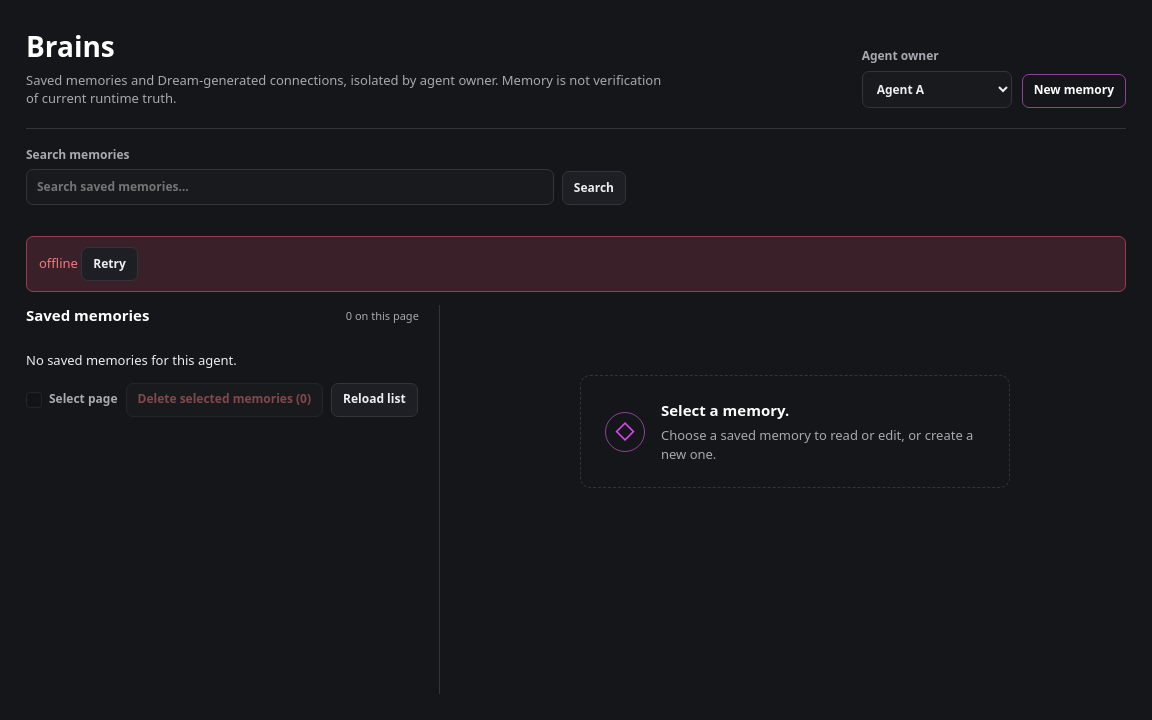
Test case: Brains workspace › retries a failed first-page list request even when cursor and search are unchanged
What coordinates should you click on to do the following:
click the button "Retry"
I would click on:
 (110, 264)
Its box is [81,247,138,281].
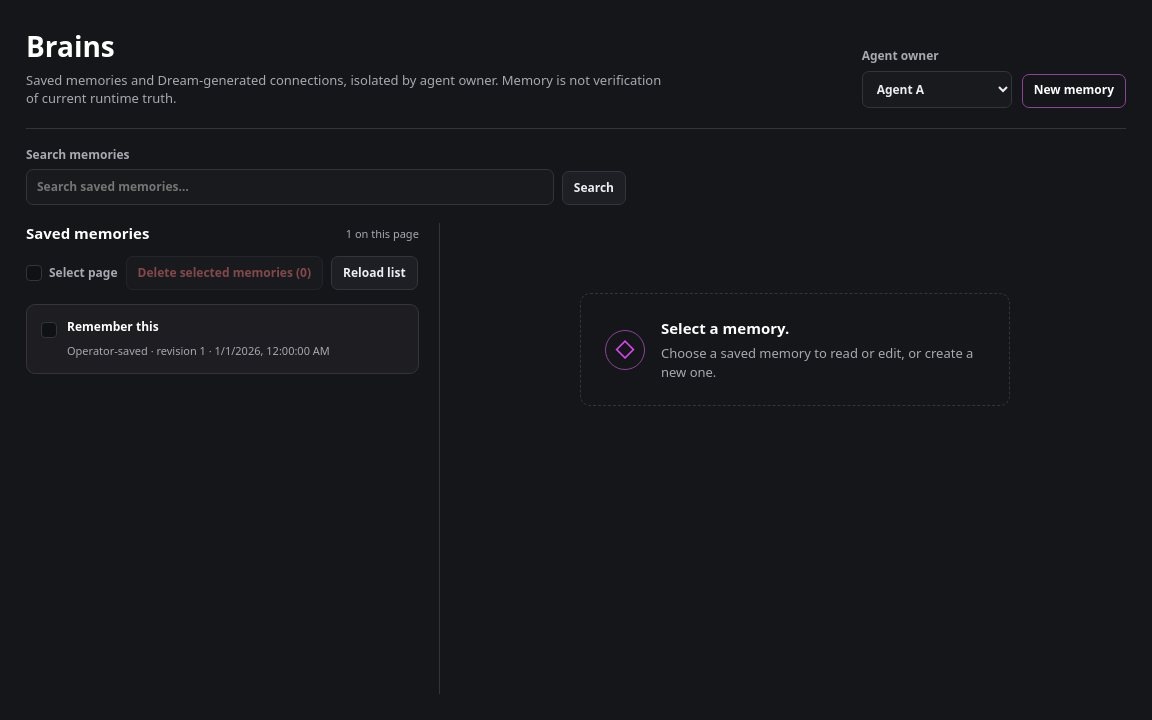
Check: the text "Remember this" is shown, box [67,318,159,335]
